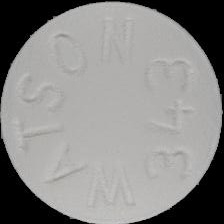21695-511: (0, 0, 224, 224)
